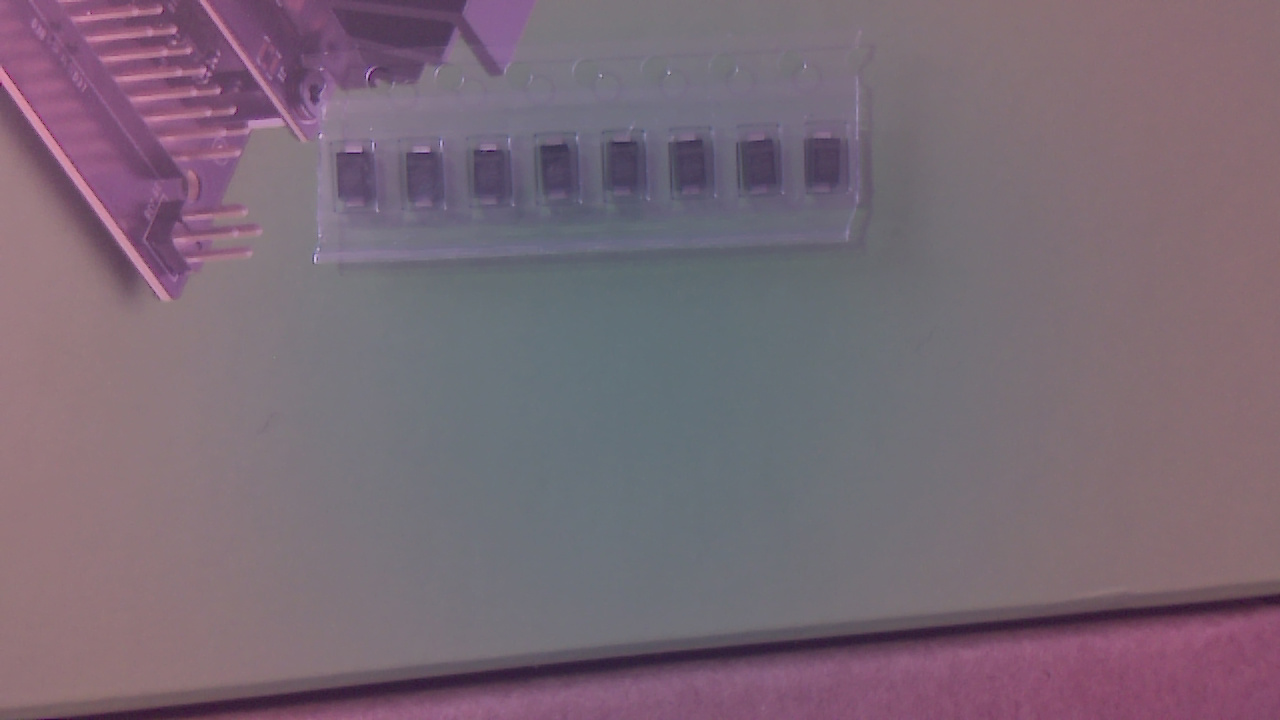Diode: (810, 133, 849, 200), (542, 143, 580, 208), (412, 147, 448, 214), (744, 136, 780, 203), (343, 147, 378, 215), (476, 145, 511, 210), (677, 137, 712, 202), (609, 136, 641, 205)
